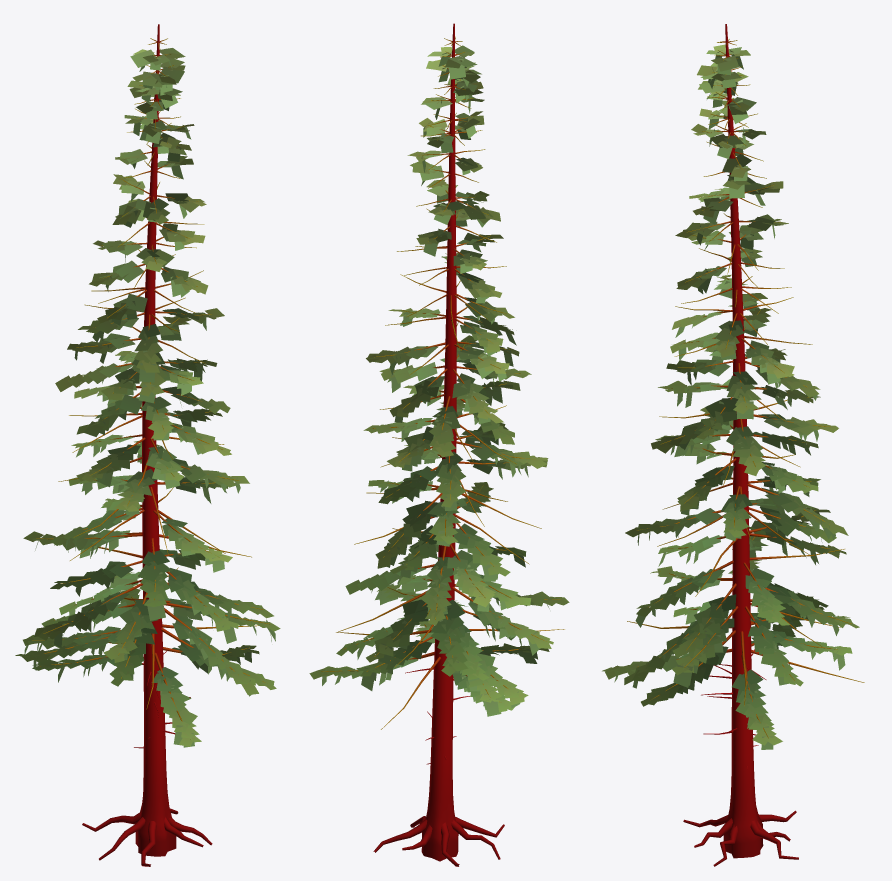
Rendered from spruce_b.glb.
3 views of the same model, side by side, from view 1: azimuth 30°, elevation 25°; view 2: azimuth 150°, elevation 25°; view 3: azimuth 270°, elevation 25° (orthographic).
Visible parts, largest first — view 1: LOD0; view 2: LOD0; view 3: LOD0.
Boxes of the visible parts, x1,y1,x2,y2 form: LOD0: (15,24,280,866); LOD0: (309,23,569,866); LOD0: (602,24,864,866).
Size of what is drawn, in the model's own units: 6.65 by 22.75 by 6.87.
